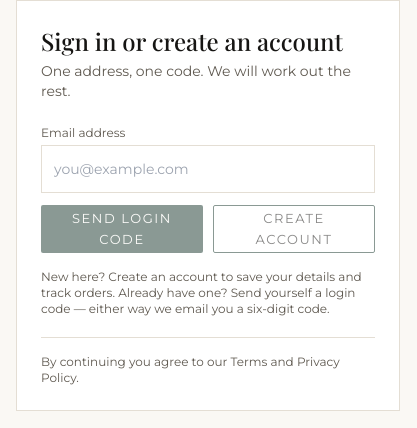
Test: the two buttons › stay disabled until the address looks like one
Check: the button "Send login code" is disabled, box left=41, top=205, right=203, bottom=253
Type "ananya@example.com" into the field labelled "Email address".
click(208, 169); type("ananya@example.com")  # box left=41, top=145, right=375, bottom=193
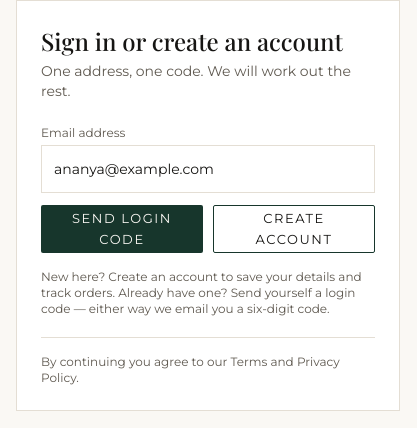
Check: the button "Send login code" is enabled, box left=41, top=205, right=203, bottom=253
